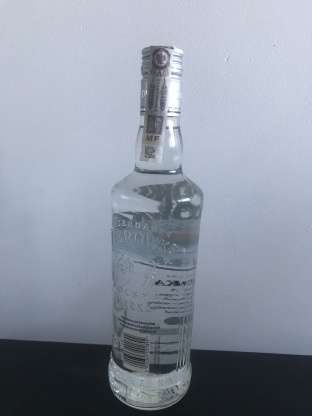nakretka: (137, 40, 185, 121)
